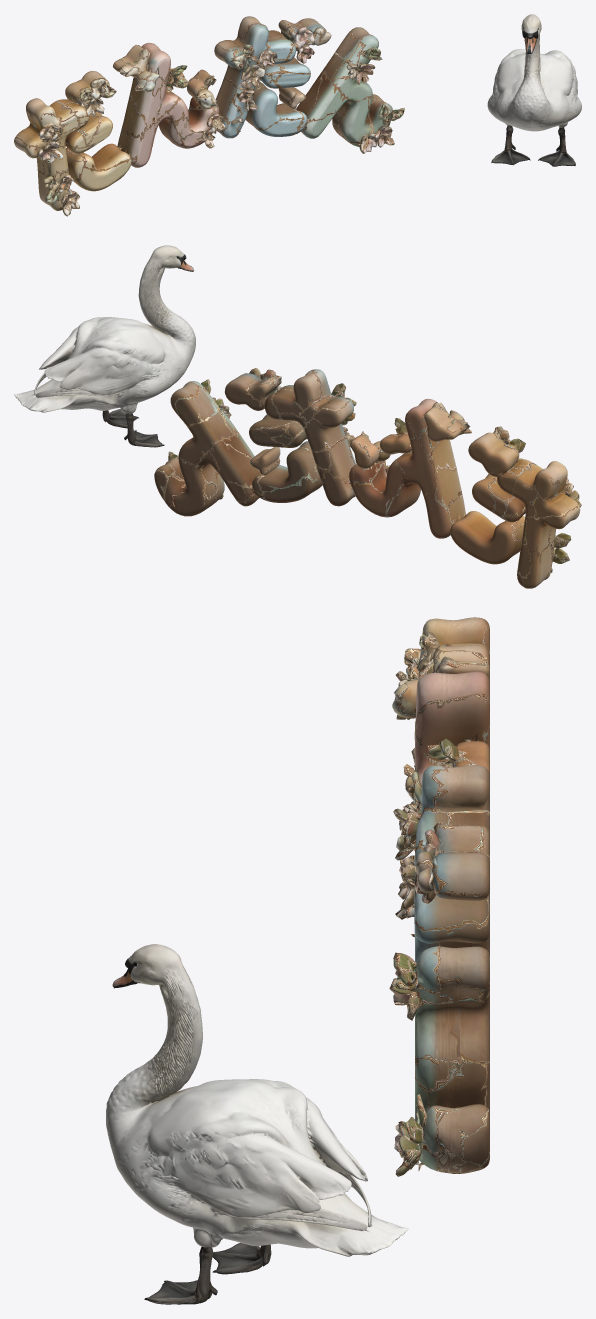
File: dandan-swan.glb
3 views of the same model, one above another, from view 1: azimuth 30°, elevation 25°; view 2: azimuth 150°, elevation 25°; view 3: azimuth 270°, elevation 25° (orthographic). The views are drawn at different scales.
Visible parts, largest first — view 1: tripo_node_2ff8d65b-cce5-40de-8414-a9c3037bf7cf, tripo_node_9af9ca59-0c93-45cb-b98d-3021075ad5e7; view 2: tripo_node_2ff8d65b-cce5-40de-8414-a9c3037bf7cf, tripo_node_9af9ca59-0c93-45cb-b98d-3021075ad5e7; view 3: tripo_node_2ff8d65b-cce5-40de-8414-a9c3037bf7cf, tripo_node_9af9ca59-0c93-45cb-b98d-3021075ad5e7.
Boxes of the visible parts, bbox=[...] form: tripo_node_2ff8d65b-cce5-40de-8414-a9c3037bf7cf: bbox=[14, 16, 404, 216]; tripo_node_9af9ca59-0c93-45cb-b98d-3021075ad5e7: bbox=[487, 14, 581, 166]; tripo_node_2ff8d65b-cce5-40de-8414-a9c3037bf7cf: bbox=[154, 368, 581, 588]; tripo_node_9af9ca59-0c93-45cb-b98d-3021075ad5e7: bbox=[14, 245, 195, 447]; tripo_node_2ff8d65b-cce5-40de-8414-a9c3037bf7cf: bbox=[389, 617, 489, 1176]; tripo_node_9af9ca59-0c93-45cb-b98d-3021075ad5e7: bbox=[106, 944, 408, 1304].
Bounding box in the file's own units: 4.46 × 1.3 × 1.43.
Materials: 2 (2 with a texture image).
